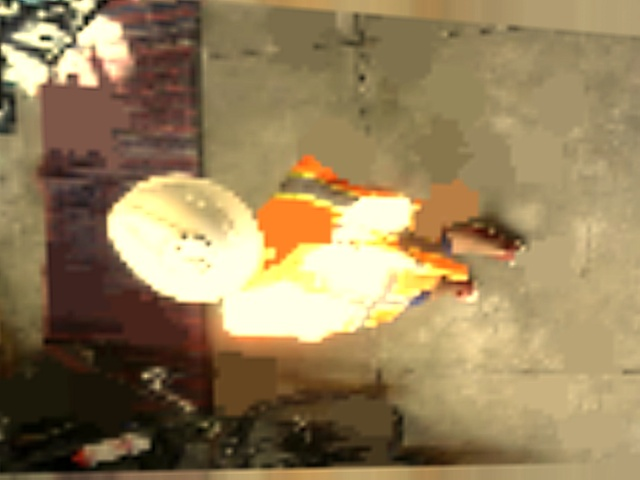two: (158, 236, 214, 276)
